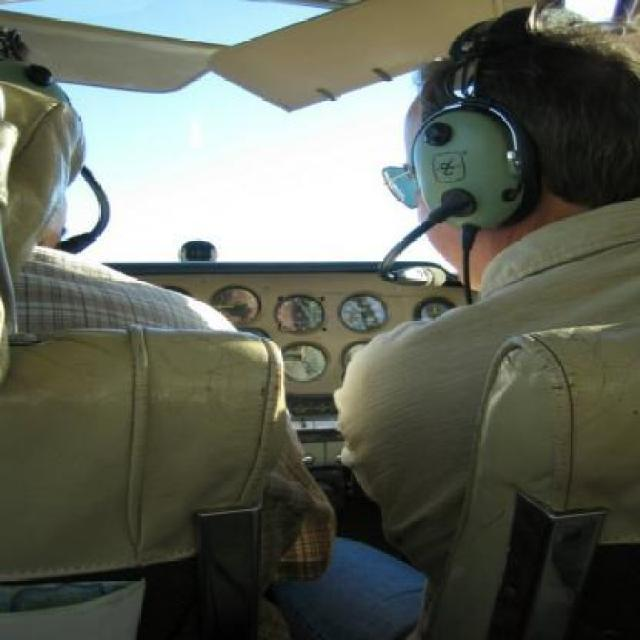earphone: (388, 40, 535, 273)
